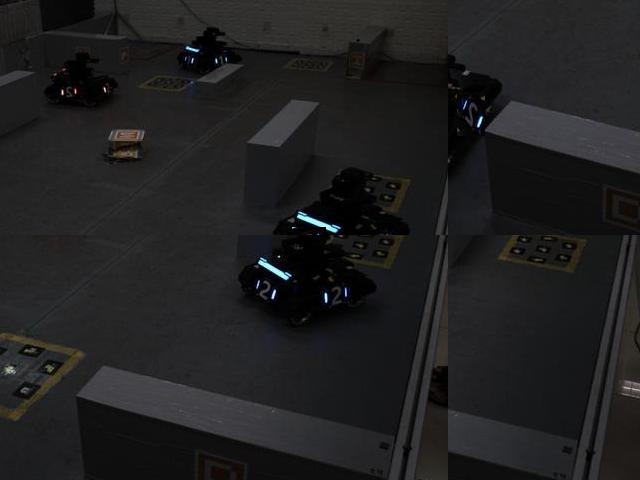armor: (458, 94, 487, 137), (323, 283, 348, 310), (254, 274, 277, 302), (59, 83, 81, 100), (180, 50, 198, 68), (99, 80, 116, 98), (292, 227, 328, 234), (214, 53, 229, 68)
